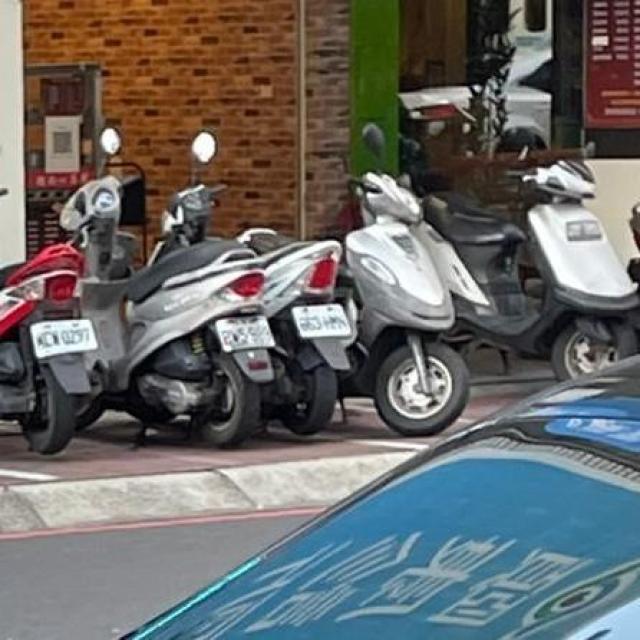W: (24, 312, 99, 361), (208, 310, 277, 356), (290, 297, 353, 342)
